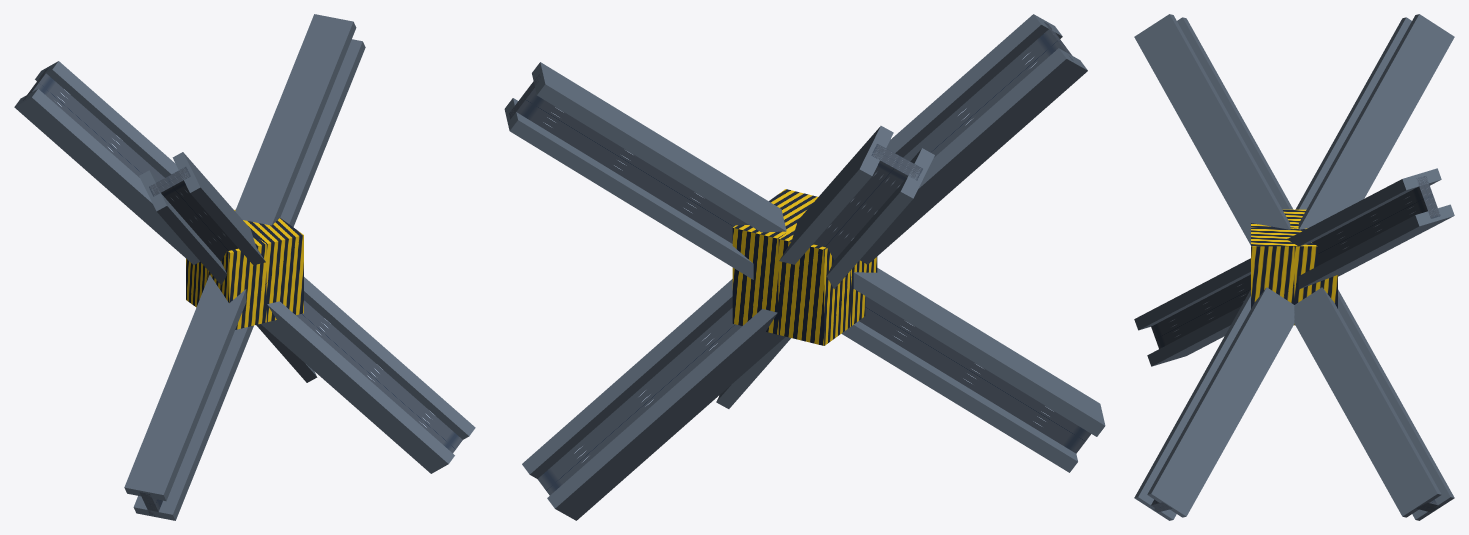
Rendered from barricade_hedgehogs.glb.
The picture shows the model from 3 angles, left to right: view 1: azimuth 30°, elevation 25°; view 2: azimuth 150°, elevation 25°; view 3: azimuth 270°, elevation 25°; orthographic projection. The views are drawn at different scales.
Parts seen in each view (by area): view 1: barricade_hedgehogs; view 2: barricade_hedgehogs; view 3: barricade_hedgehogs.
Part boxes in pixels (<box>): barricade_hedgehogs: <box>14,14,475,520</box>; barricade_hedgehogs: <box>504,14,1105,520</box>; barricade_hedgehogs: <box>1134,14,1454,520</box>.
Size of the model in its own units: 1.76 by 1.76 by 1.33.
Materials: 3 (2 with a texture image).
